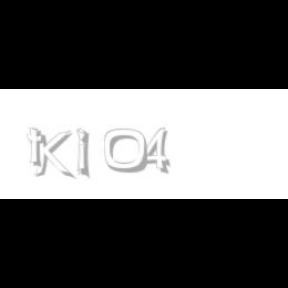4: (140, 128, 170, 174)
I: (78, 128, 90, 180)
K: (32, 128, 72, 180)
O: (104, 128, 148, 174)
i: (76, 128, 92, 176)
t: (27, 128, 49, 168)
